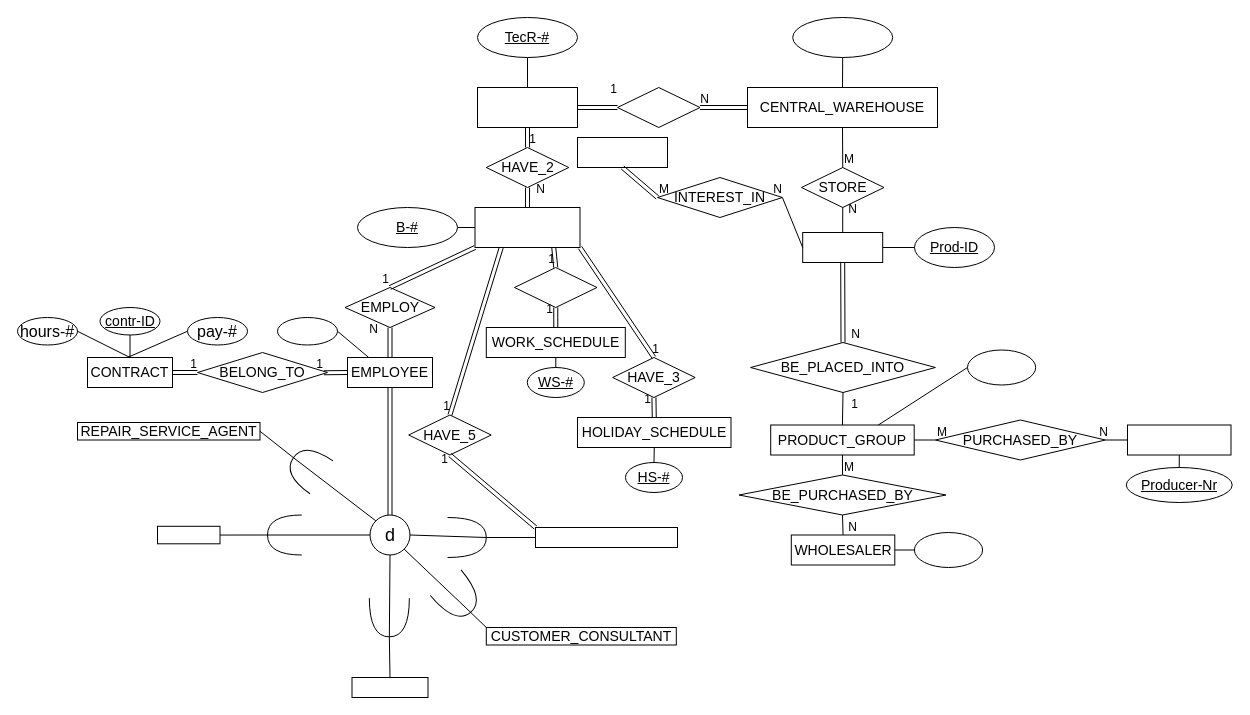
Image size: 1250x715. Some labels were removed from this diagram. Each missing label, with the centre of its shape:
BRANCH: (x=527, y=227)
CASHIER: (x=188, y=534)
CLEANER: (x=389, y=687)
CUSTOMER: (x=622, y=152)
EMP-Nr: (x=307, y=330)
HAVE_1: (x=658, y=107)
HAVE_4: (x=555, y=287)
ProdGr: (x=1001, y=367)
PRODUCER: (x=1178, y=439)
PRODUCT: (x=842, y=247)
RETAILER: (x=527, y=107)
STORE_MANAGER: (x=606, y=537)
WH-ID: (x=842, y=37)
WhS-Nr: (x=948, y=550)
